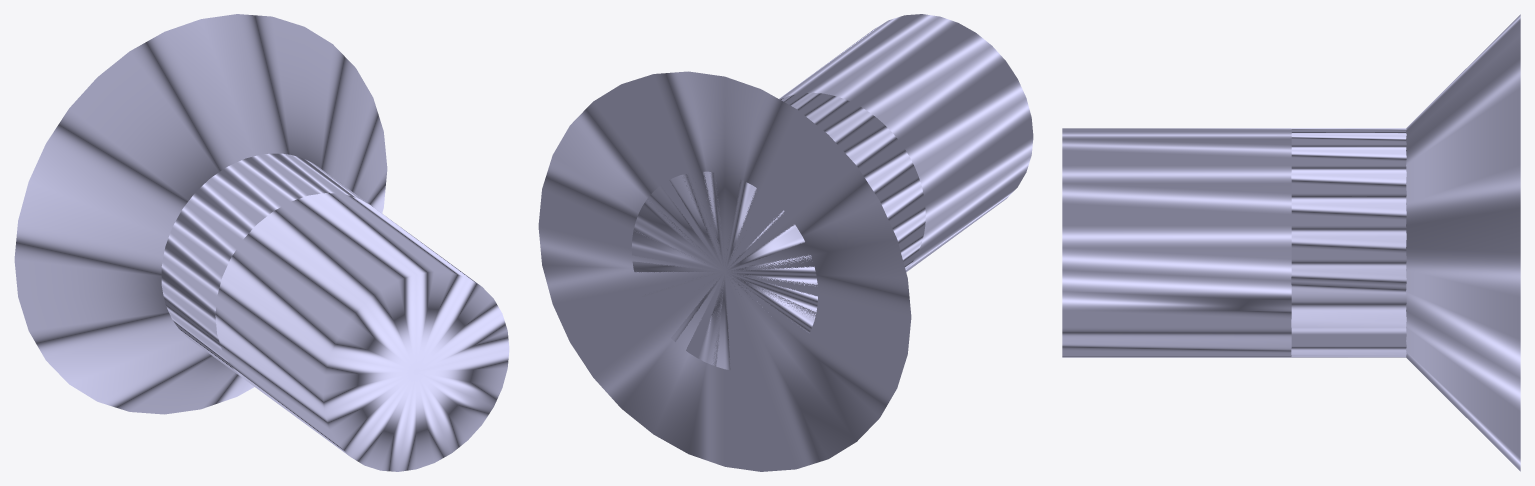
The model's file is greifer.dae.
The picture shows the model from 3 angles, left to right: view 1: azimuth 30°, elevation 25°; view 2: azimuth 150°, elevation 25°; view 3: azimuth 270°, elevation 25°; orthographic projection. The views are drawn at different scales.
Parts seen in each view (by area): view 1: Node_0x7fbf5b4a1390; view 2: Node_0x7fbf5b4a1390; view 3: Node_0x7fbf5b4a1390.
Boxes of the visible parts, box(x1,y1,x2,y2) form: Node_0x7fbf5b4a1390: box(14, 14, 509, 471); Node_0x7fbf5b4a1390: box(538, 14, 1033, 471); Node_0x7fbf5b4a1390: box(1062, 14, 1520, 471).
Size of the model in its own units: 0.2 by 0.2 by 0.2.
